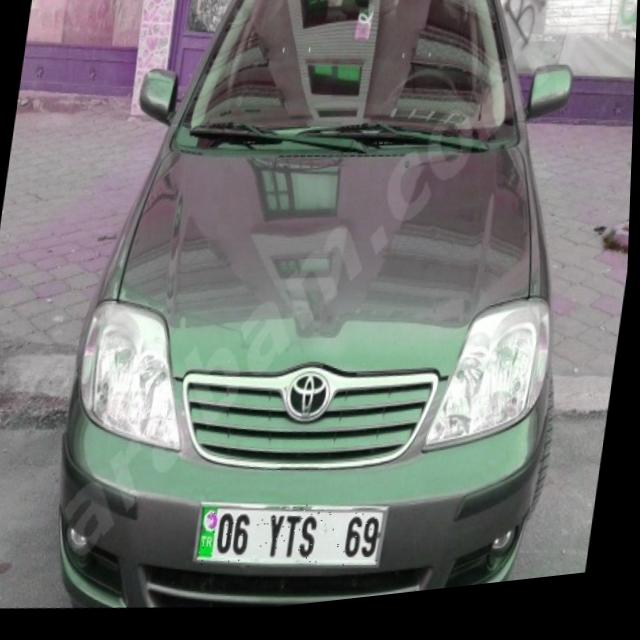license_plate: (198, 495, 389, 590)
